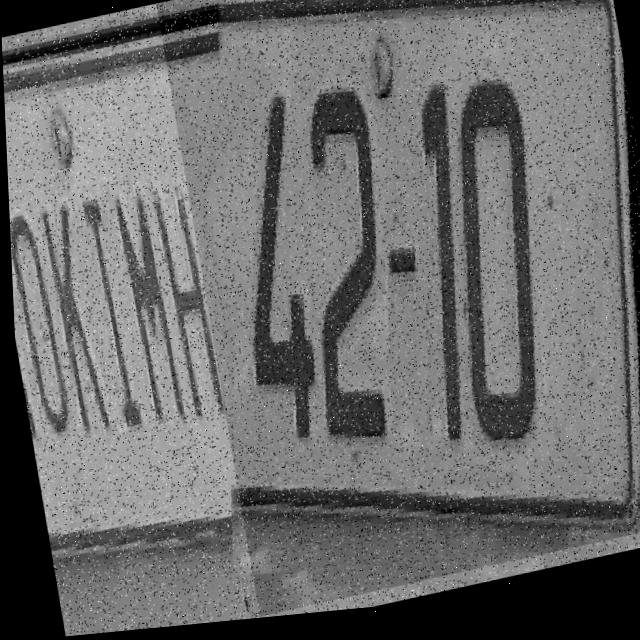LicensePlate: (155, 0, 640, 626)
